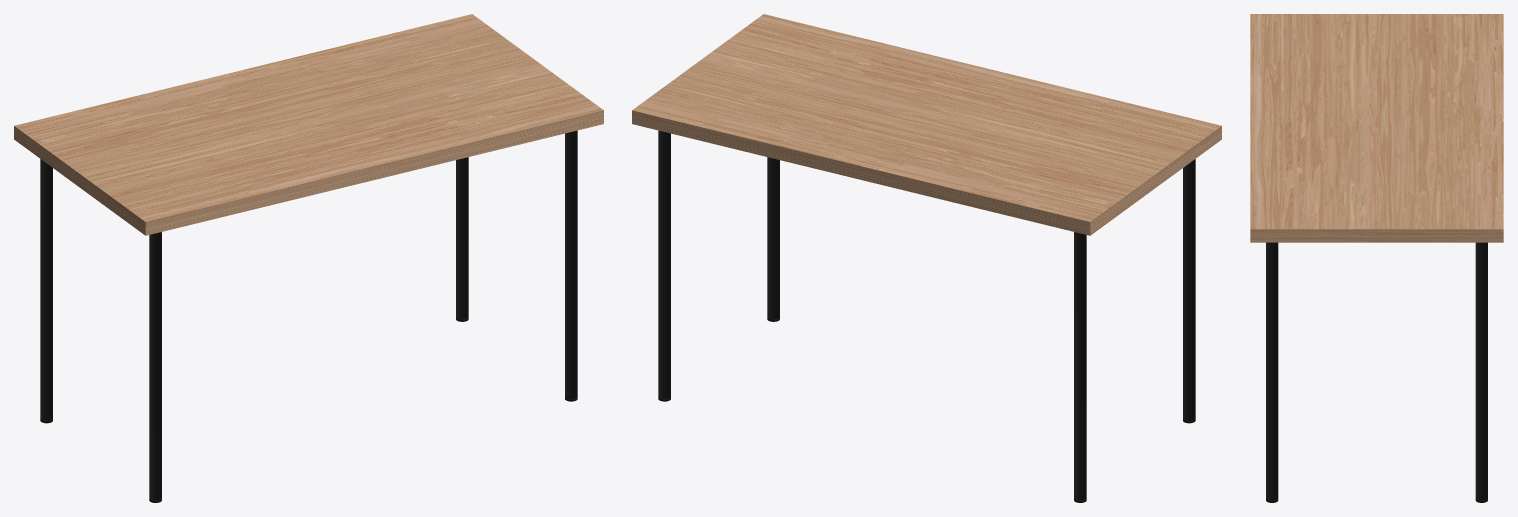
File: mittCirkel.glb
3 renders of one model, left to right at view 1: azimuth 30°, elevation 25°; view 2: azimuth 150°, elevation 25°; view 3: azimuth 270°, elevation 25°, orthographic. The views are drawn at different scales.
Visible parts, largest first — view 1: Cube.024, Cylinder.005; view 2: Cube.024, Cylinder.005; view 3: Cube.024, Cylinder.005.
Part boxes in pixels (box(x1,y1,x2,y2)): Cube.024: box(14, 14, 603, 235); Cylinder.005: box(40, 130, 577, 500); Cube.024: box(632, 14, 1221, 235); Cylinder.005: box(658, 130, 1195, 500); Cube.024: box(1250, 14, 1503, 242); Cylinder.005: box(1266, 242, 1487, 500).
Bounding box in the file's own units: 0.012 × 0.00729 × 0.00596.
Materials: 3 (1 with a texture image).
